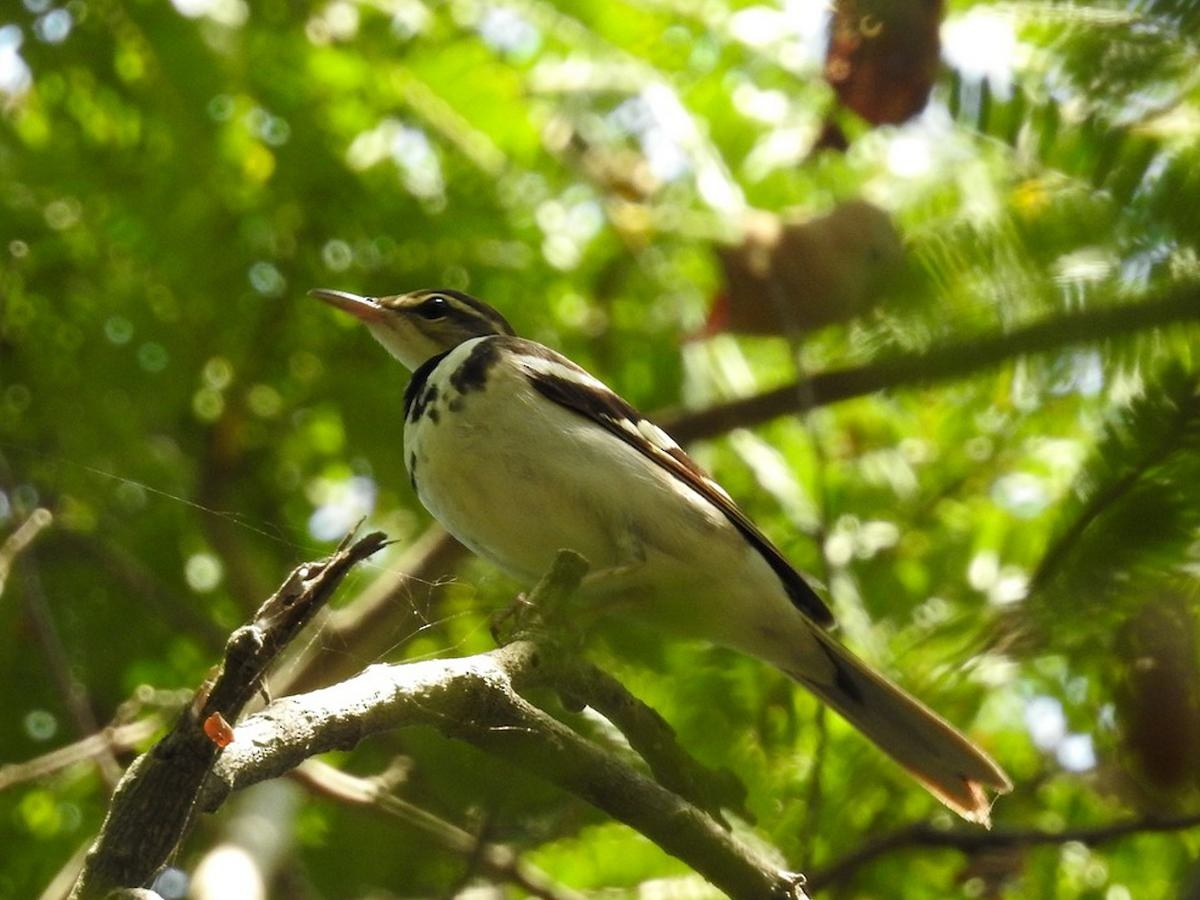wagtail: (266, 250, 1049, 828)
